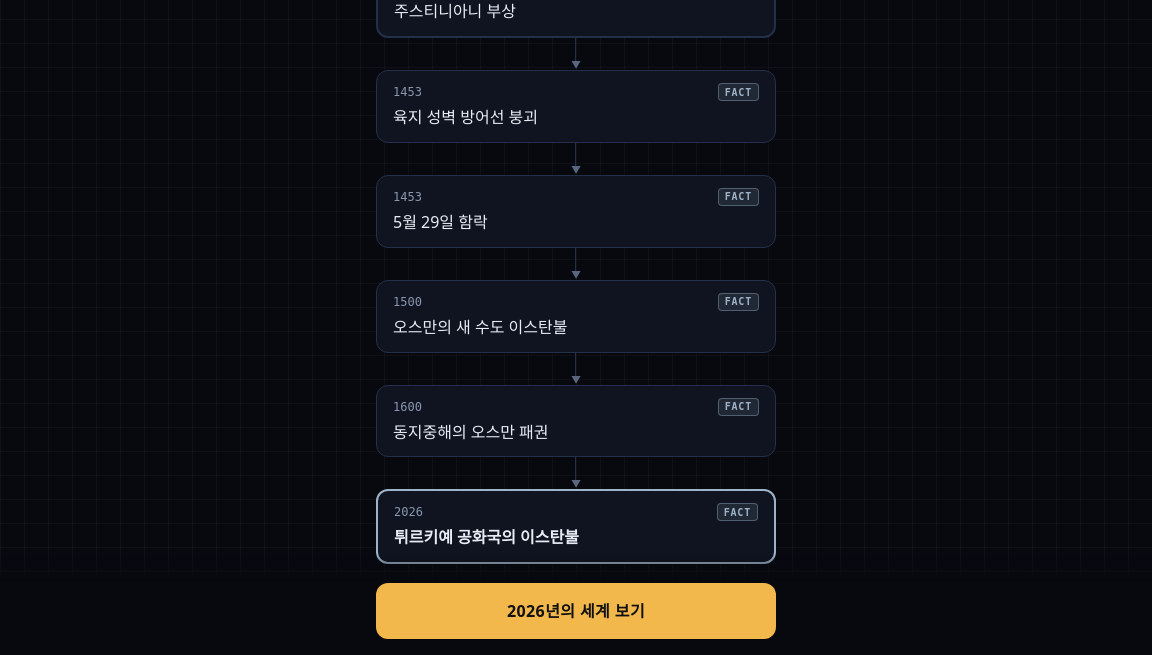
Test: 전체 루프 (fast 모드) › 관측 세계선 발견 후 다른 카드에 NOTE 가 표시된다
Earlier steps of the test are not shown.
(page scrolled)
Click the button with test id "btn-to-result". click: (576, 611)
box: x1=376 y1=583 x2=776 y2=639
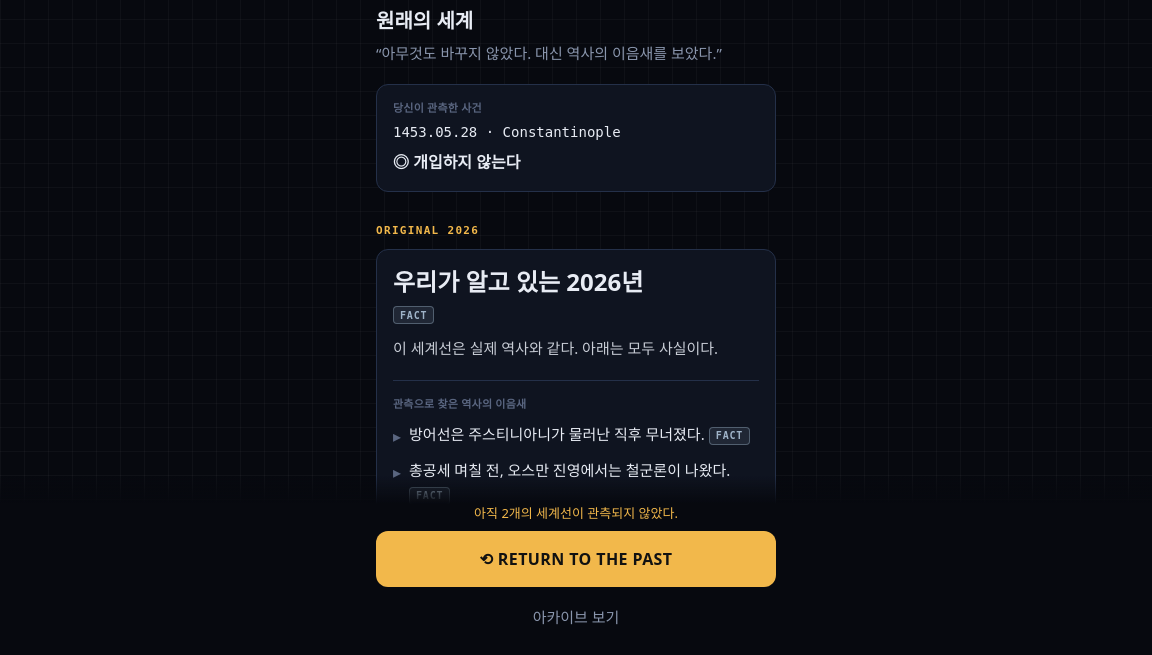
Click the button with test id "btn-return". click: (576, 559)
box: x1=376 y1=531 x2=776 y2=587
(page scrolled)
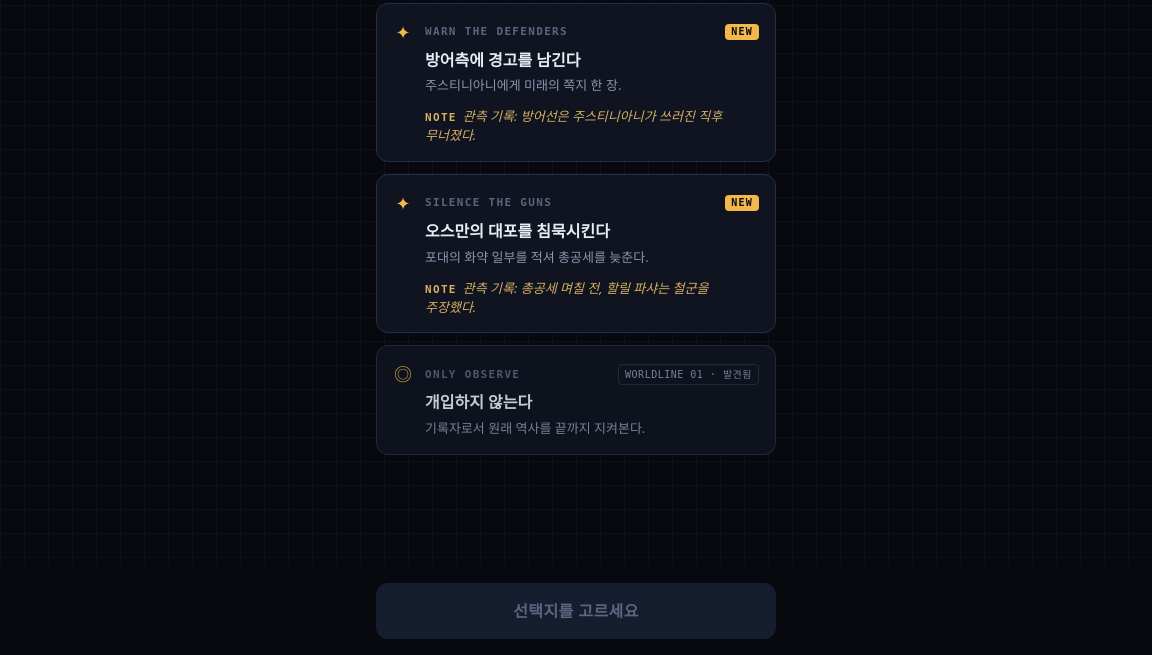
expect the element with test id "note-warn_defenders" is shown: met, box x1=425 y1=107 x2=722 y2=144
expect the element with test id "note-silence_guns" is shown: met, box x1=425 y1=279 x2=708 y2=316
